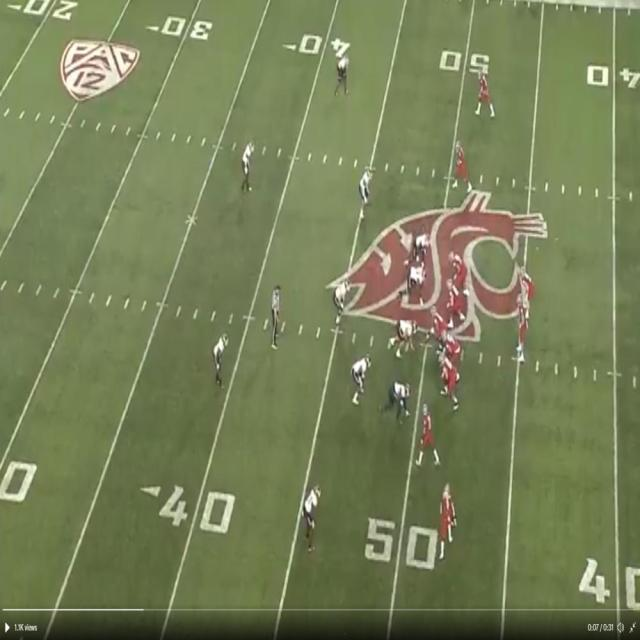center: (424, 304, 445, 348)
db: (304, 487, 317, 547), (213, 336, 225, 384), (338, 50, 350, 95), (360, 168, 370, 218), (246, 142, 253, 190)
lb: (350, 358, 368, 400), (333, 282, 351, 321)
qb: (518, 290, 530, 359)
skill: (420, 404, 438, 464), (442, 488, 457, 548), (477, 66, 493, 118), (453, 141, 469, 191), (521, 266, 536, 298)
